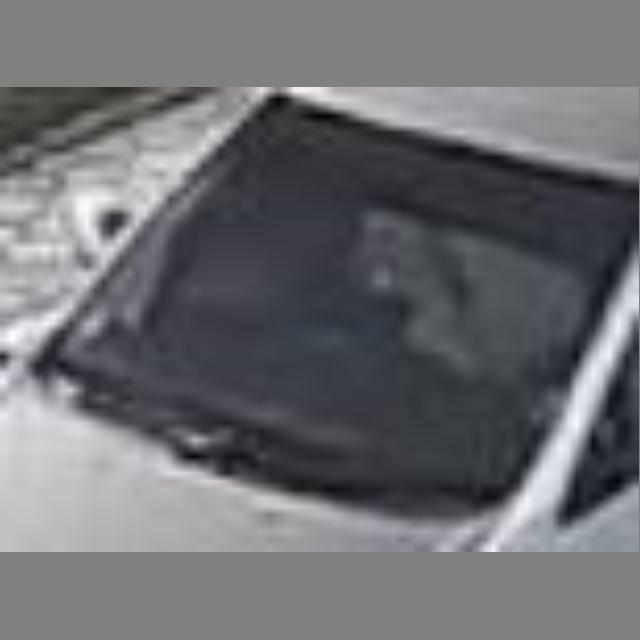pakai: (283, 145, 557, 461)
